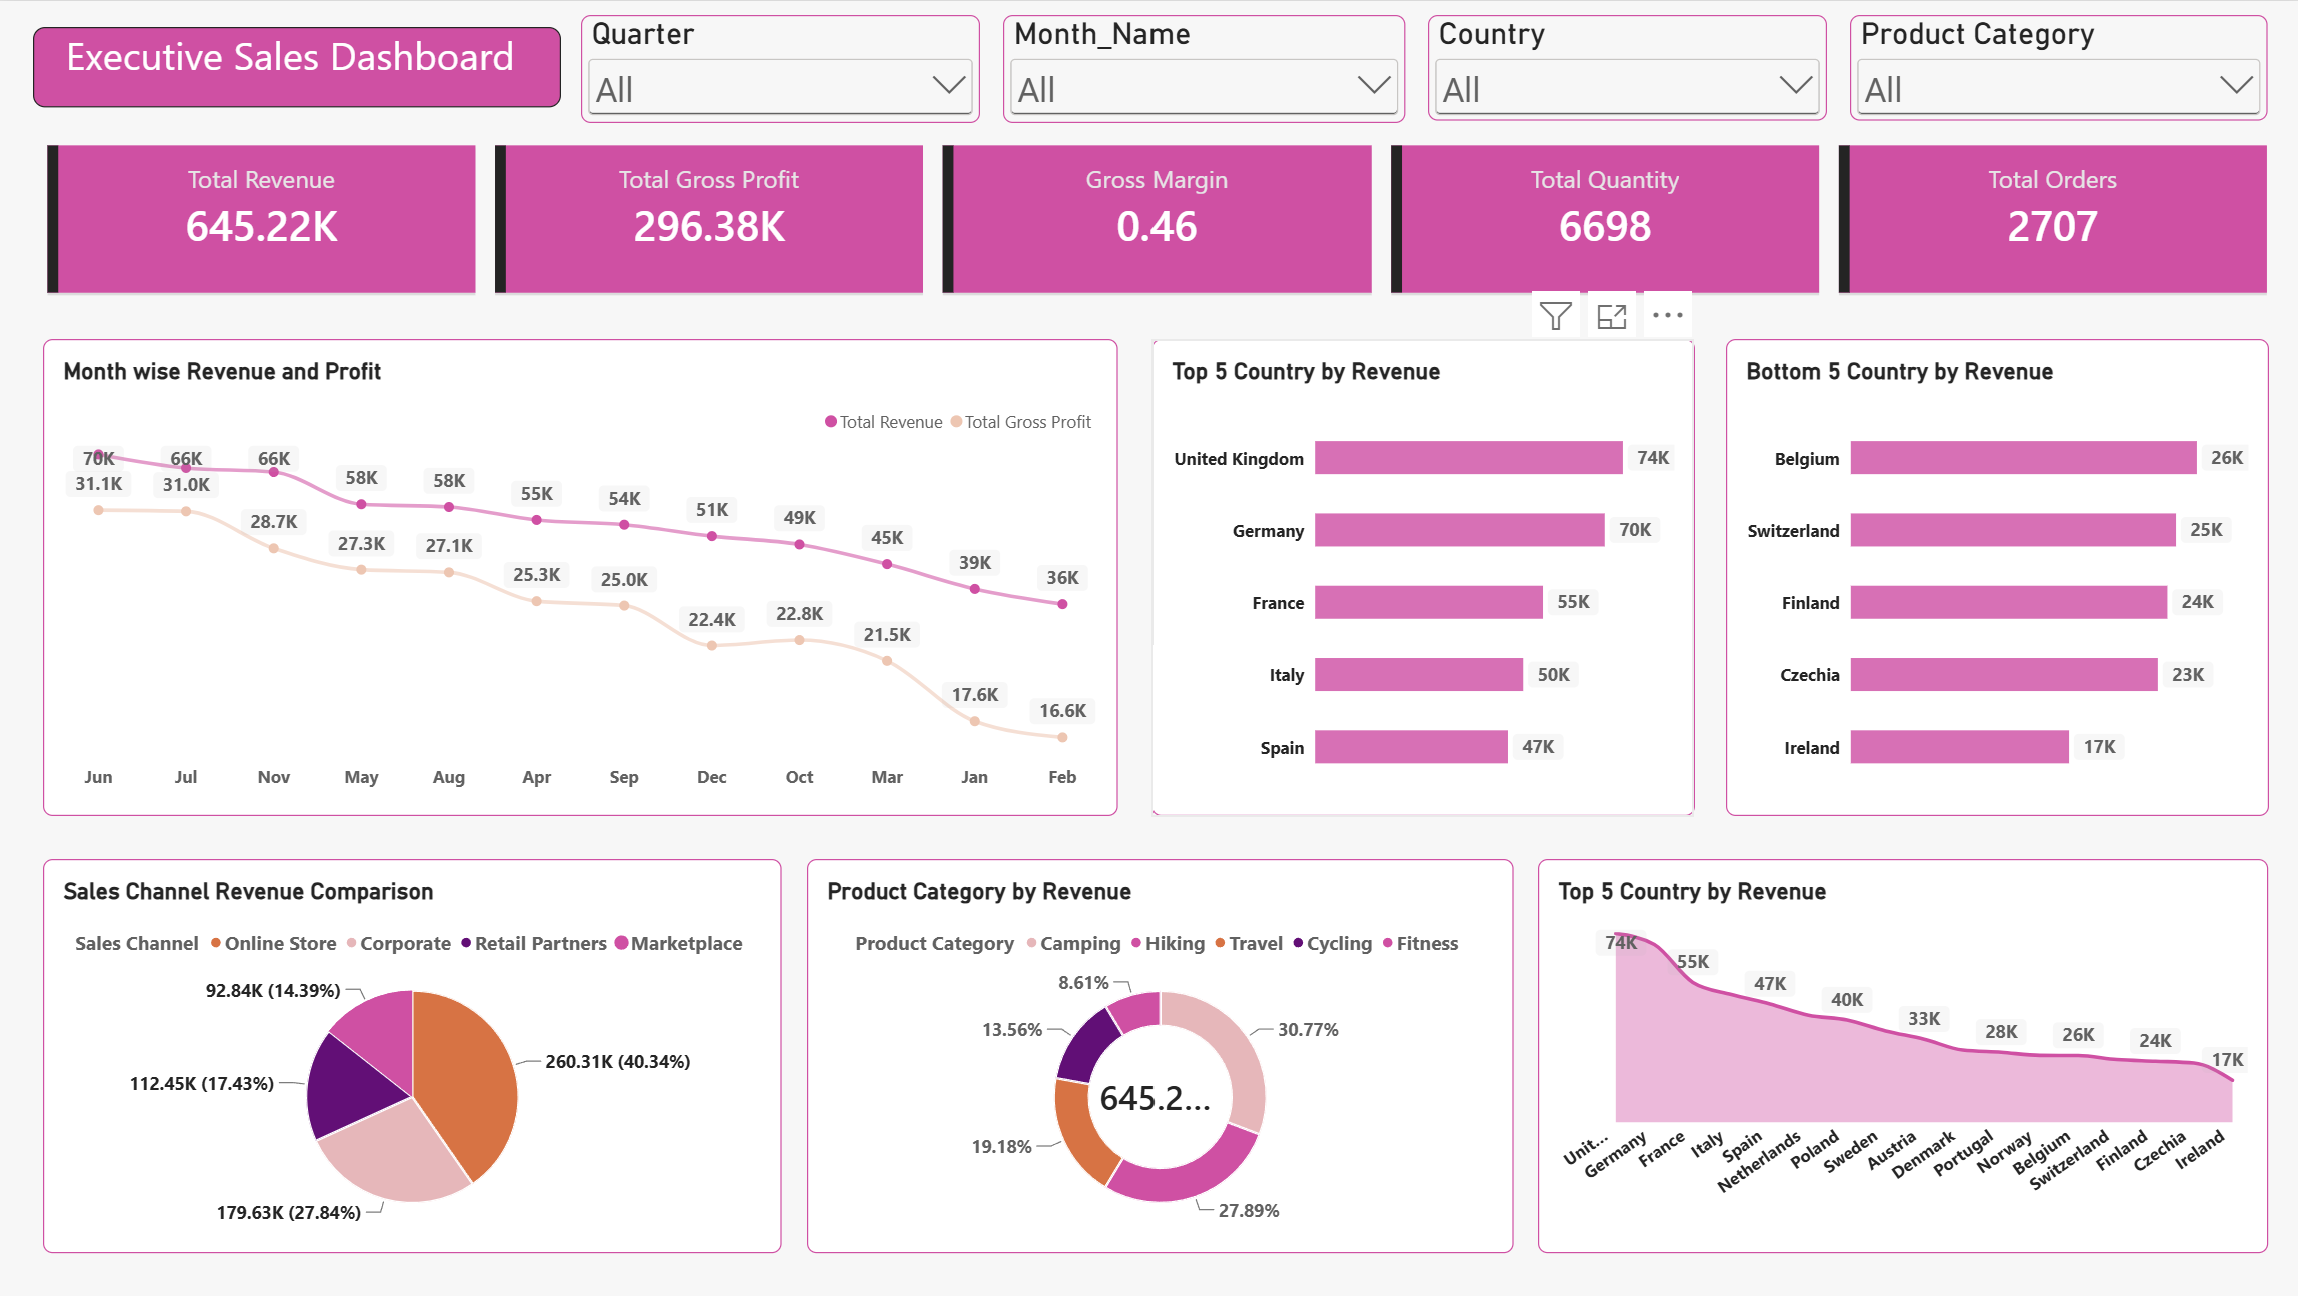

The page's visual inventory and layout, read from the dashboard file:
{"tool":"powerbi","page":{"name":"Page 1","canvas":[1920,1080],"ordinal":0},"visuals":[{"type":"cardVisual","fields":{"Data":["All_Measures_.Total Revenue","All_Measures_.Total Gross Profit","All_Measures_.Gross Margin","All_Measures_.Total Quantity","All_Measures_.Total Orders"]},"box":[36.7,117.1,1860.7,130],"z":0},{"type":"textbox","box":[29,247,1861,150],"z":1000},{"type":"textbox","box":[28.7,21,439.8,66.9],"z":2000},{"type":"slicer","fields":{"Values":["Date_Table.Quarter"]},"box":[485.7,11.5,332.7,89.9],"z":3000},{"type":"slicer","fields":{"Values":["Date_Table.Month_Name"]},"box":[837,11.5,334.7,89.9],"z":4000},{"type":"slicer","fields":{"Values":["sales_data.Country"]},"box":[1190.1,11.5,332.7,88],"z":5000},{"type":"slicer","fields":{"Values":["sales_data.Product Category"]},"box":[1541.4,11.5,348,88],"z":6000},{"type":"lineChart","title":"Month wise Revenue and Profit","fields":{"Category":["Date_Table.Month_Name"],"Y":["All_Measures_.Total Revenue"],"Y2":["All_Measures_.Total Gross Profit"]},"box":[36.7,282.5,895.7,397.3],"z":7000},{"type":"clusteredBarChart","title":"Top 5 Country by Revenue","fields":{"Category":["sales_data.Country"],"Y":["All_Measures_.Total Revenue"]},"box":[960,282.5,452.4,397.3],"z":8000},{"type":"clusteredBarChart","title":"Bottom 5 Country by Revenue","fields":{"Category":["sales_data.Country"],"Y":["All_Measures_.Total Revenue"]},"box":[1437.7,282.5,452.4,397.3],"z":9000},{"type":"pieChart","title":"Sales Channel Revenue Comparison","fields":{"Category":["sales_data.Sales Channel"],"Y":["All_Measures_.Total Revenue"]},"box":[36.7,714.3,615.5,328.4],"z":10000},{"type":"donutChart","title":"Product Category by  Revenue ","fields":{"Category":["sales_data.Product Category"],"Y":["All_Measures_.Total Revenue"]},"box":[672.9,714.3,587.9,328.4],"z":11000},{"type":"areaChart","title":"Top 5 Country by Revenue","fields":{"Category":["sales_data.Country"],"Y":["All_Measures_.Total Revenue"]},"box":[1281.5,714.3,608.6,328.4],"z":12000}]}

Visuals, with their boxes in screenshot pixels (x1, y1, x2, y2), scaled from the page's 1920x1080 canvas onto the 2298x1296 screenshot:
cardVisual - All_Measures_.Total Revenue x All_Measures_.Total Gross Profit: pyautogui.locateOnScreen(44, 141, 2271, 297)
textbox: pyautogui.locateOnScreen(35, 296, 2262, 476)
textbox: pyautogui.locateOnScreen(34, 25, 561, 105)
slicer - Date_Table.Quarter: pyautogui.locateOnScreen(581, 14, 980, 122)
slicer - Date_Table.Month_Name: pyautogui.locateOnScreen(1002, 14, 1402, 122)
slicer - sales_data.Country: pyautogui.locateOnScreen(1424, 14, 1823, 119)
slicer - sales_data.Product Category: pyautogui.locateOnScreen(1845, 14, 2261, 119)
"Month wise Revenue and Profit" lineChart: pyautogui.locateOnScreen(44, 339, 1116, 816)
"Top 5 Country by Revenue" clusteredBarChart: pyautogui.locateOnScreen(1149, 339, 1690, 816)
"Bottom 5 Country by Revenue" clusteredBarChart: pyautogui.locateOnScreen(1721, 339, 2262, 816)
"Sales Channel Revenue Comparison" pieChart: pyautogui.locateOnScreen(44, 857, 781, 1251)
"Product Category by  Revenue " donutChart: pyautogui.locateOnScreen(805, 857, 1509, 1251)
"Top 5 Country by Revenue" areaChart: pyautogui.locateOnScreen(1534, 857, 2262, 1251)
